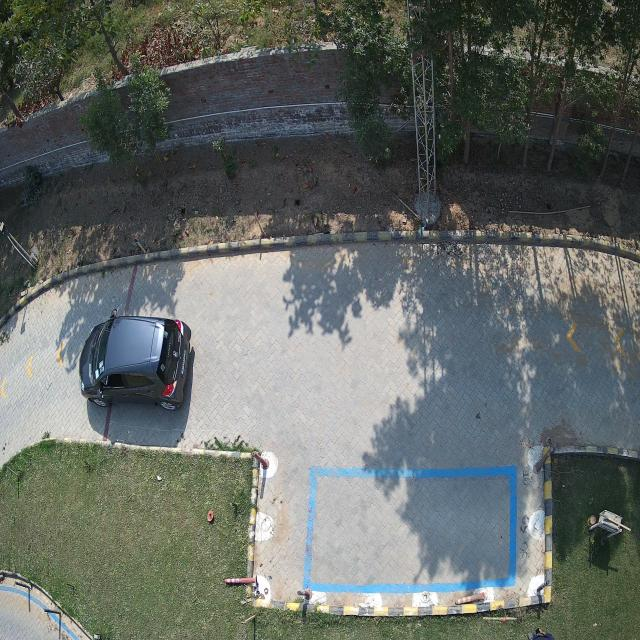car: (79, 313, 194, 410)
